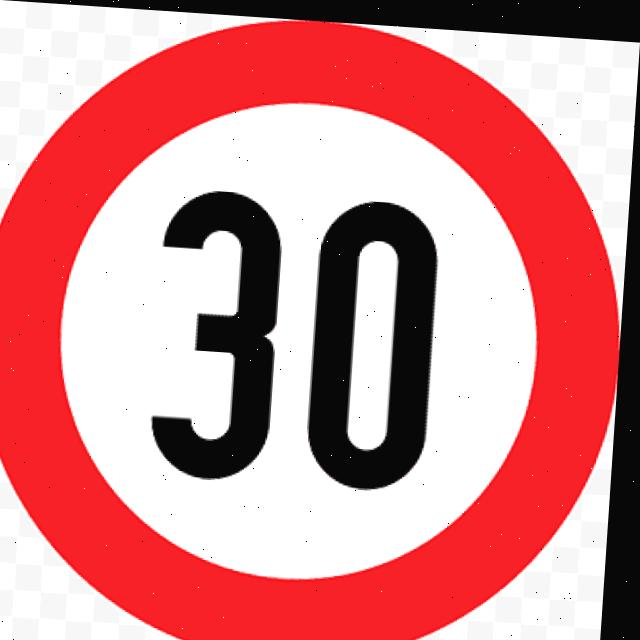Speed limit 30: (1, 1, 639, 640)
